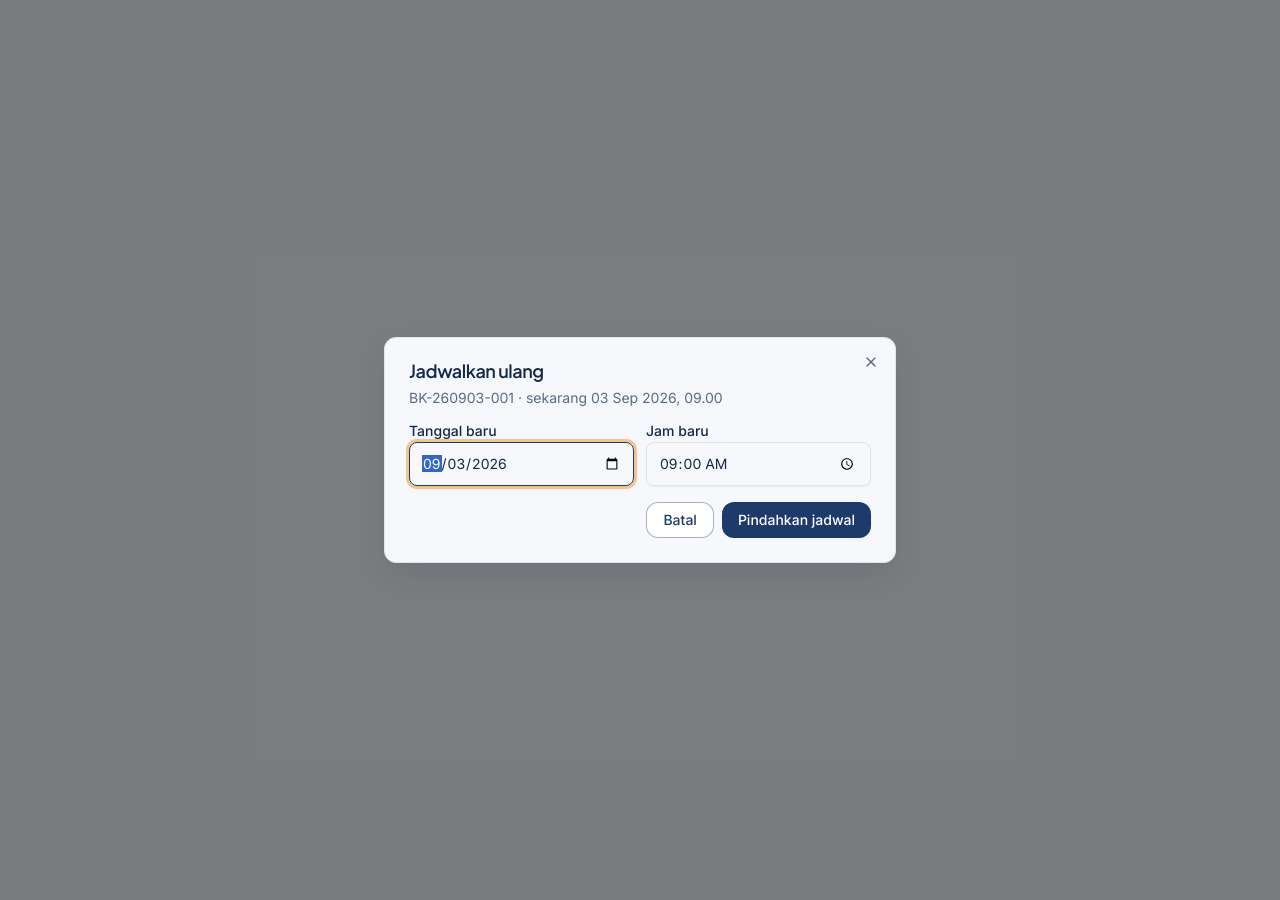
Test case: BookingRescheduleDialog › offers the override only after the diary refuses
Expected: the text "dua pekerjaan di jam yang sama" is not shown
Step 1. Click the button "Pindahkan jadwal" → (796, 520), box left=722, top=502, right=871, bottom=538
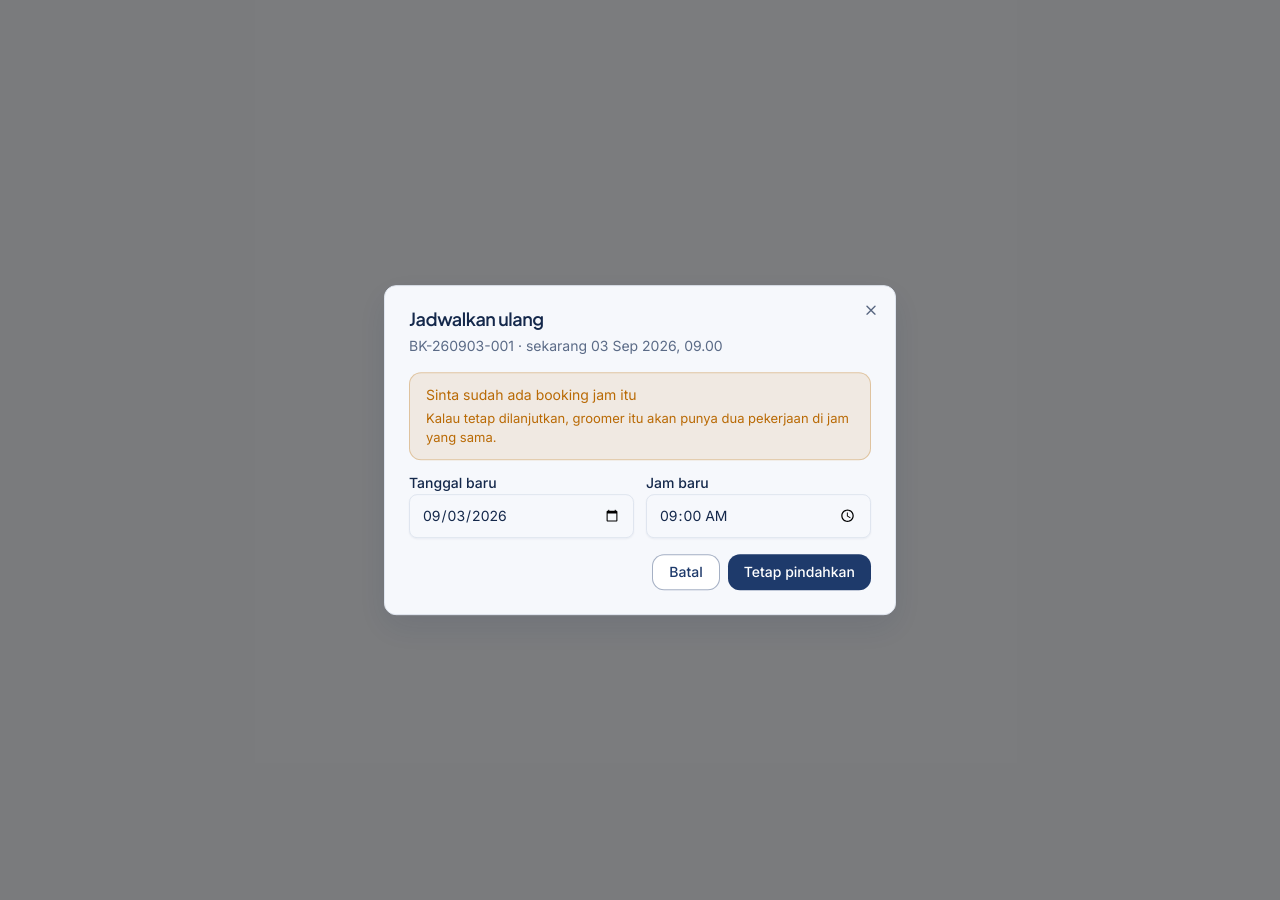
Now the text "sudah ada booking jam itu" is shown, box left=426, top=386, right=637, bottom=403
Now the text "dua pekerjaan di jam yang sama" is shown, box left=426, top=410, right=849, bottom=445
